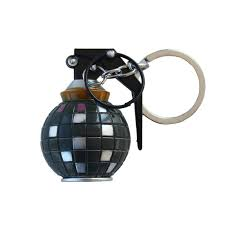e1: (39, 45, 145, 181)
